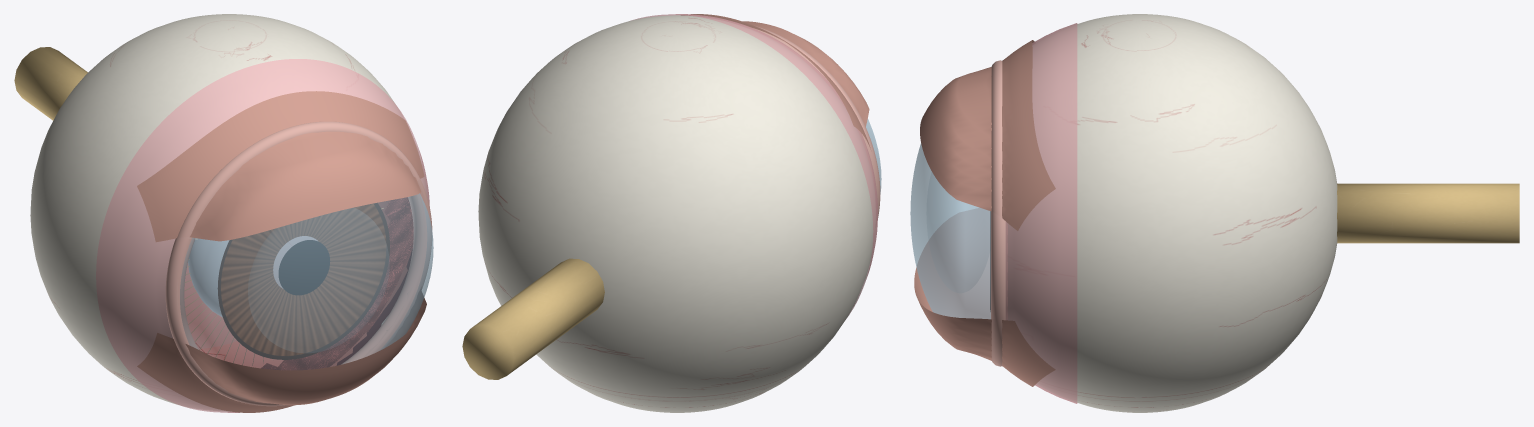
Rendered from eye.glb.
3 views of the same model, side by side, from view 1: azimuth 30°, elevation 25°; view 2: azimuth 150°, elevation 25°; view 3: azimuth 270°, elevation 25° (orthographic).
Visible parts, largest first — view 1: Sclera, Cornea, Upper_Eyelid, Conjunctiva, Iris, Lower_Eyelid, Corneoscleral_Junction, Ciliary_Muscle, Retina_Inner, Optic_Nerve, Crystalline_Lens, Pupil (+1 smaller); view 2: Sclera, Optic_Nerve, Conjunctiva, Upper_Eyelid, Corneoscleral_Junction; view 3: Sclera, Conjunctiva, Upper_Eyelid, Optic_Nerve, Lower_Eyelid, Cornea, Corneoscleral_Junction.
Part boxes in pixels (x1,y1,x2,y2): Sclera: (30, 14, 426, 411); Cornea: (180, 193, 433, 370); Upper_Eyelid: (137, 91, 424, 242); Conjunctiva: (96, 59, 429, 412); Iris: (217, 203, 389, 359); Lower_Eyelid: (137, 287, 426, 412); Corneoscleral_Junction: (165, 121, 432, 406); Ciliary_Muscle: (261, 197, 413, 370); Retina_Inner: (184, 200, 407, 368); Optic_Nerve: (14, 47, 87, 120); Crystalline_Lens: (188, 236, 317, 317); Pupil: (278, 240, 330, 295); Sclera: (478, 15, 875, 412); Optic_Nerve: (462, 258, 604, 379); Conjunctiva: (630, 14, 877, 318); Upper_Eyelid: (681, 14, 870, 149); Corneoscleral_Junction: (753, 26, 880, 217); Sclera: (1008, 14, 1337, 412); Conjunctiva: (1005, 23, 1077, 403); Upper_Eyelid: (920, 40, 1055, 230); Optic_Nerve: (1337, 183, 1519, 243); Lower_Eyelid: (914, 208, 1055, 386); Cornea: (910, 143, 990, 319); Corneoscleral_Junction: (991, 60, 1007, 366).
Size of the model in its own units: 2 by 2 by 3.05.
16 materials, 9 textured.
